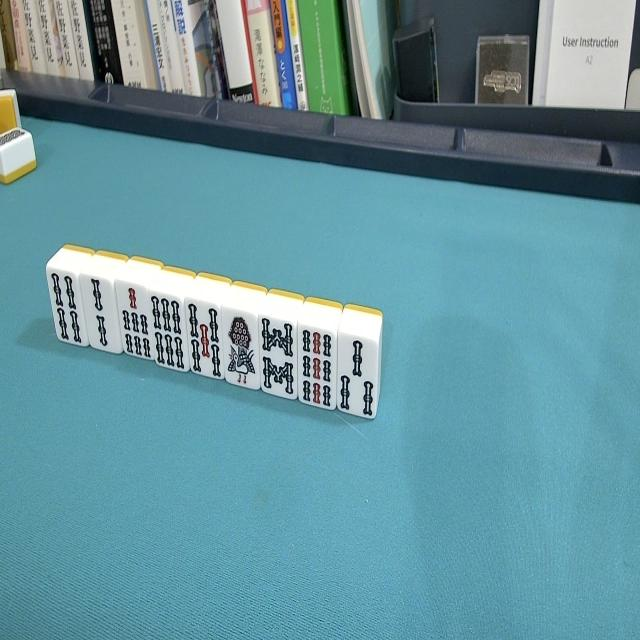1_sou: (220, 273, 266, 403)
2_sou: (76, 242, 127, 363)
3_sou: (332, 300, 387, 426)
4_sou: (44, 240, 91, 356)
5_sou: (185, 267, 232, 390)
6_sou: (148, 260, 198, 381)
7_sou: (114, 250, 162, 370)
8_sou: (257, 286, 305, 406)
9_sou: (294, 293, 345, 419)
